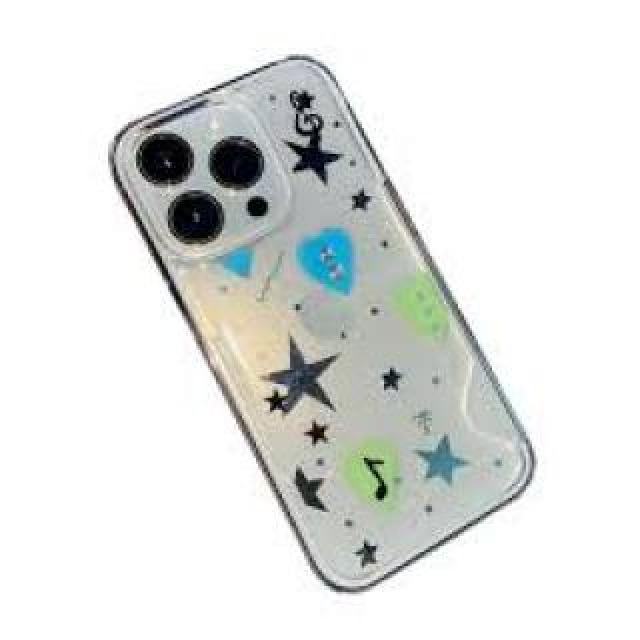smart phone: (103, 40, 580, 605)
